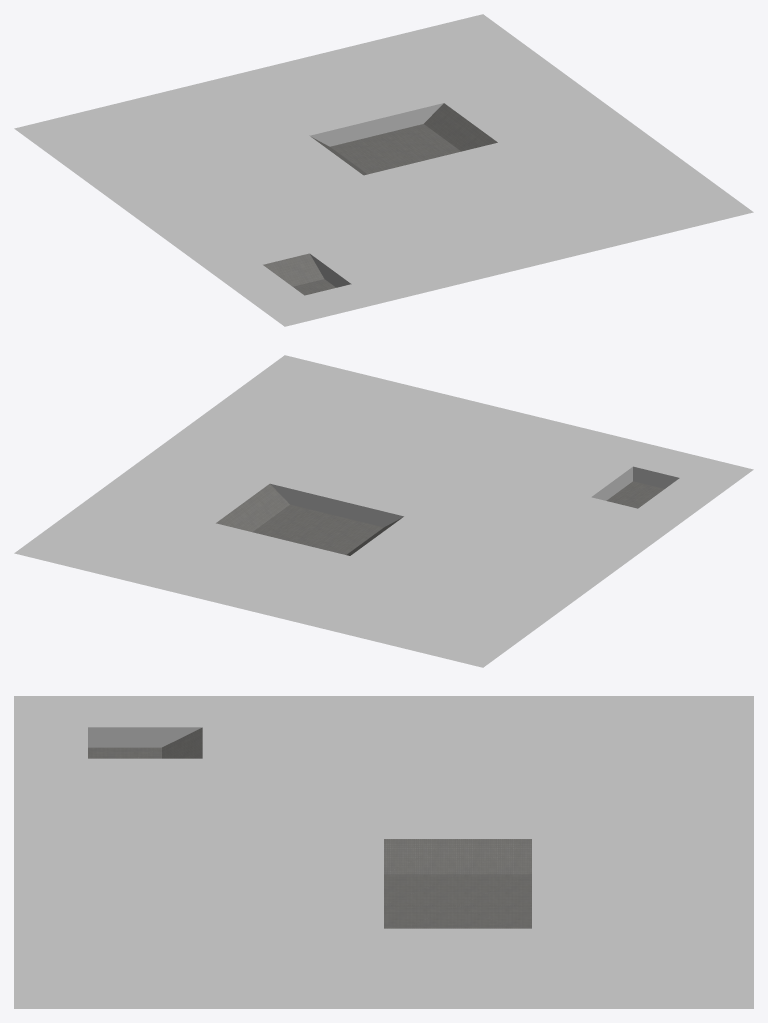
The model's file is GroundSection01.fbx.
3 renders of one model, top to bottom at view 1: azimuth 30°, elevation 25°; view 2: azimuth 150°, elevation 25°; view 3: azimuth 270°, elevation 25°, orthographic. The views are drawn at different scales.
Parts seen in each view (by area): view 1: GroundSection01; view 2: GroundSection01; view 3: GroundSection01.
Part boxes in pixels (x1,y1,x2,y2): GroundSection01: (14, 14, 753, 326); GroundSection01: (14, 355, 753, 667); GroundSection01: (14, 696, 753, 1008).
Bounding box in the file's own units: 100 × 3.25 × 100.
